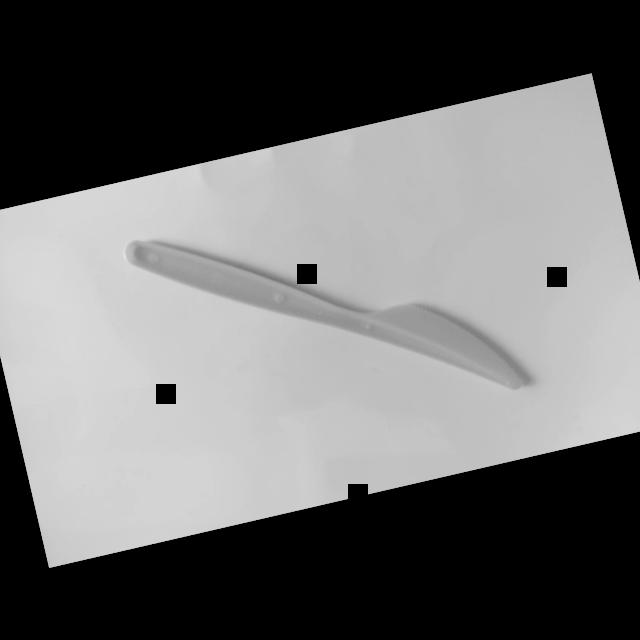plastic_cultery: (119, 159, 526, 472)
